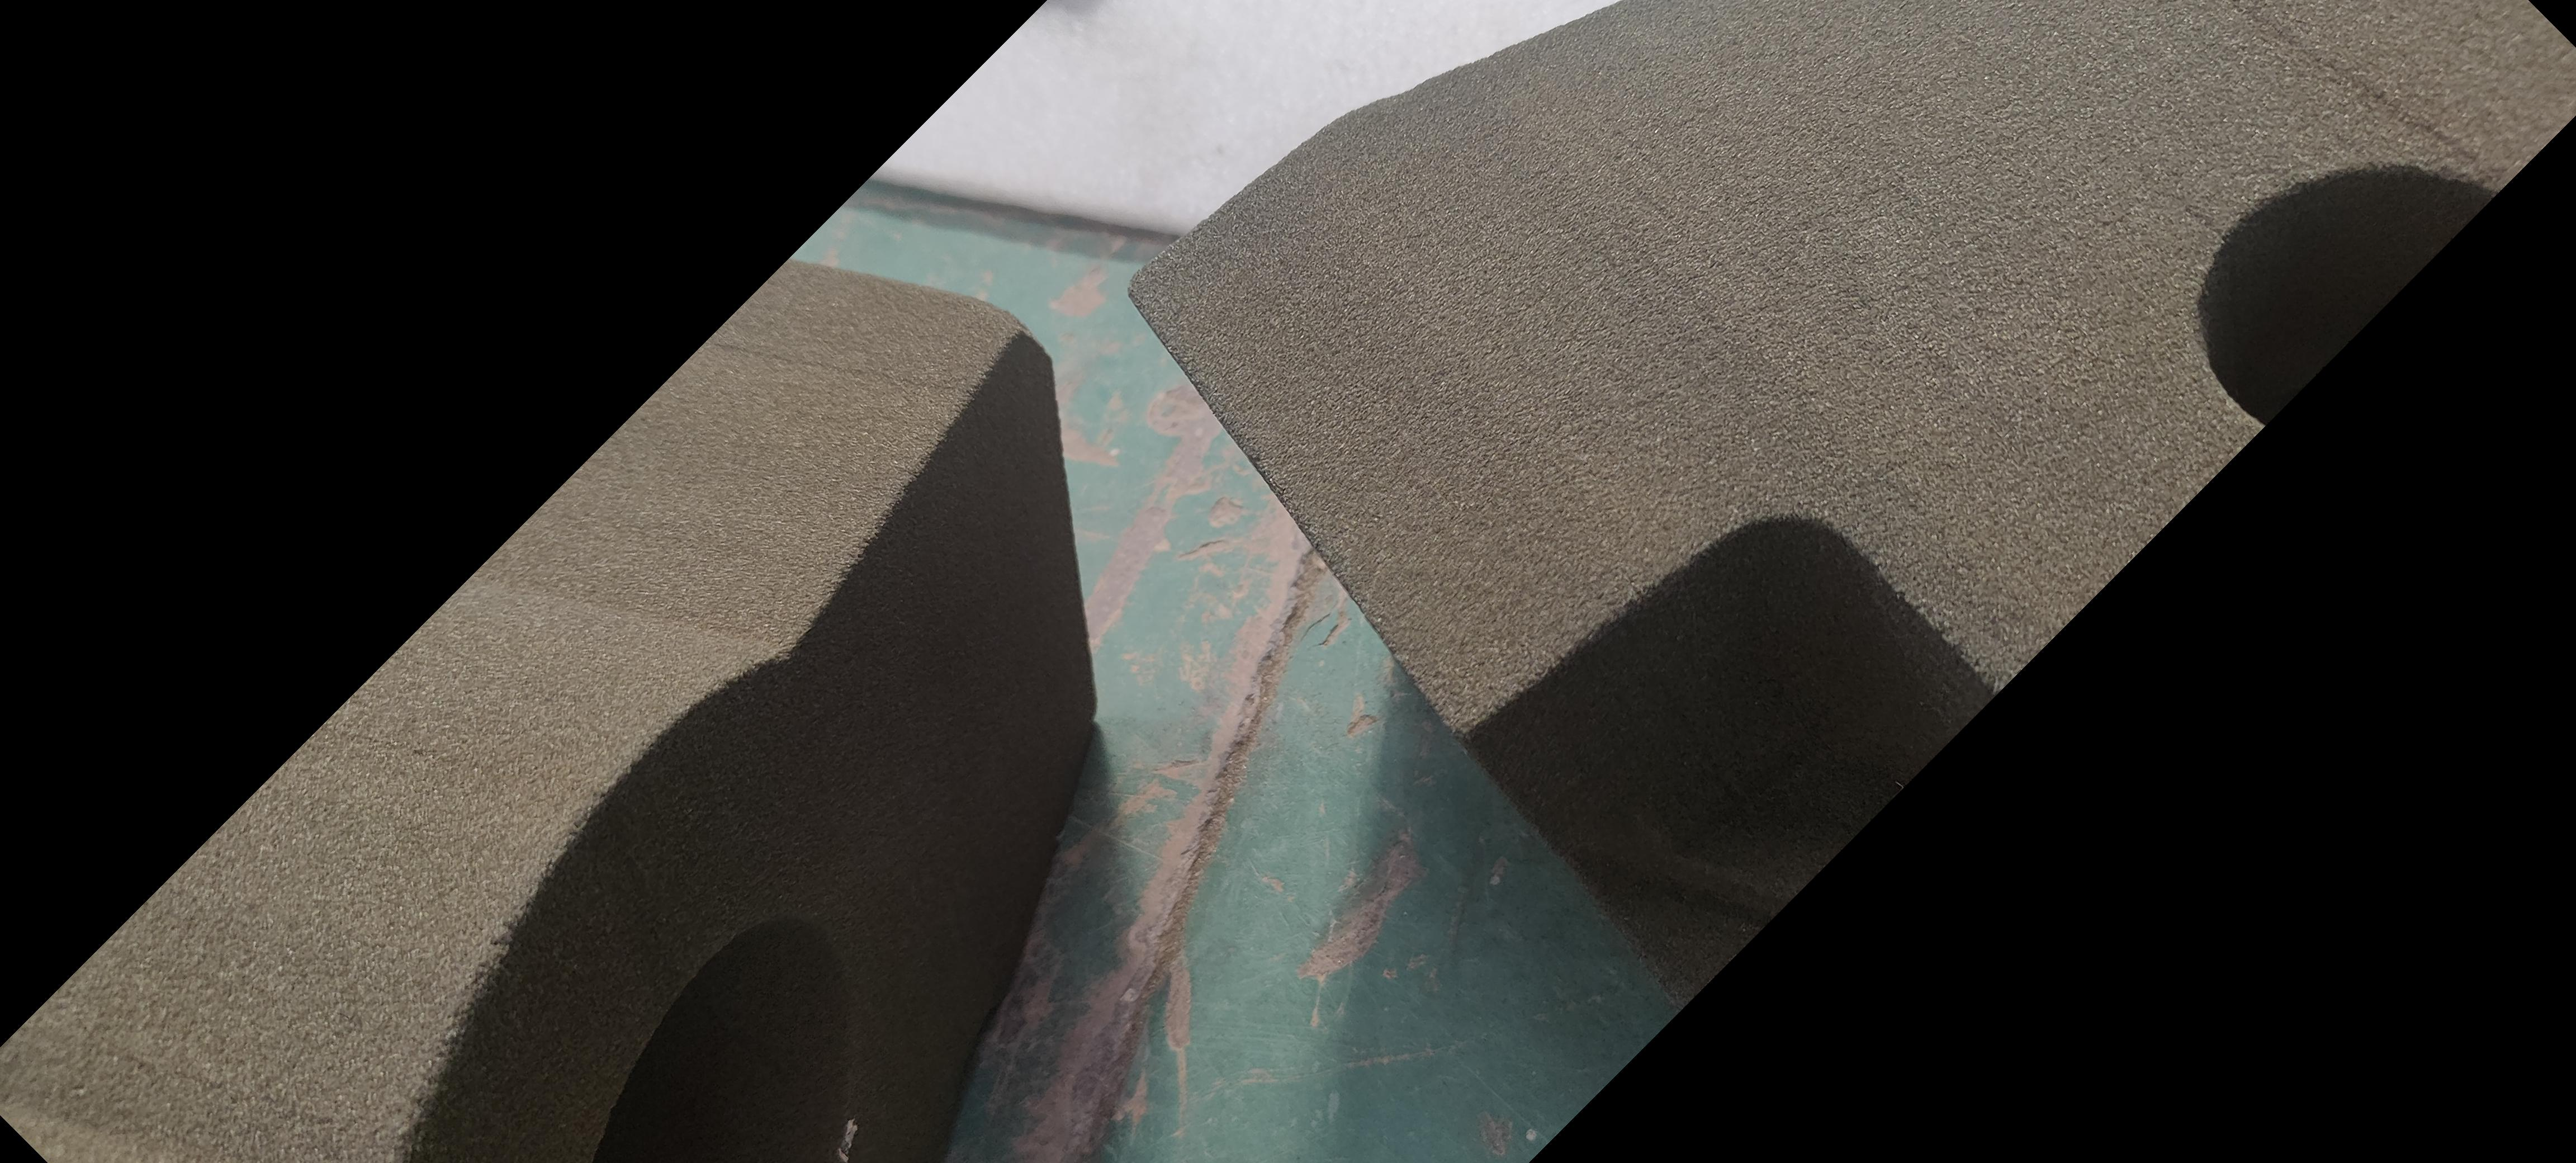pouring hole: (2196, 158, 2497, 430), (590, 918, 854, 1163)
